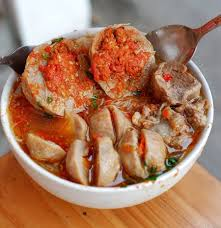bakso: (18, 32, 201, 185)
